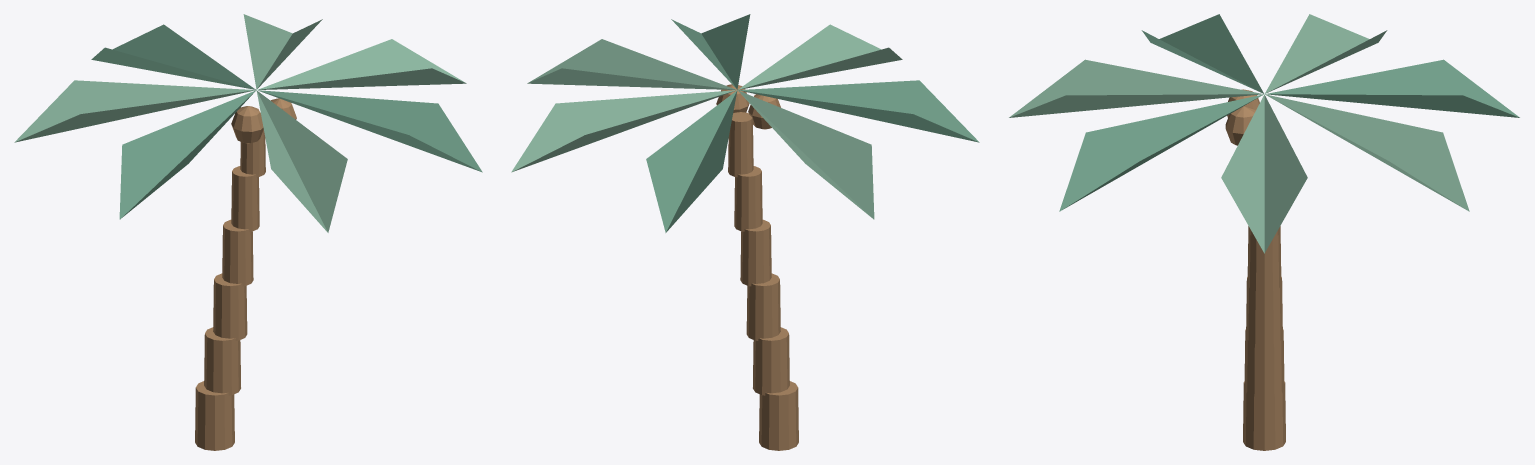
The model's file is palm.glb.
3 views of the same model, side by side, from view 1: azimuth 30°, elevation 25°; view 2: azimuth 150°, elevation 25°; view 3: azimuth 270°, elevation 25° (orthographic). The views are drawn at different scales.
Parts seen in each view (by area): view 1: palm_frond (×7), trunk_segment (×6), coconut; view 2: palm_frond (×7), trunk_segment (×6); view 3: palm_frond (×7), trunk_segment (×4), coconut.
Boxes of the visible parts, box(x1,y1,x2,y2) form: palm_frond (×7): box(14, 14, 482, 232); trunk_segment (×6): box(195, 113, 265, 450); coconut: box(231, 106, 263, 143); palm_frond (×7): box(511, 14, 979, 232); trunk_segment (×6): box(728, 112, 798, 450); palm_frond (×7): box(1009, 14, 1519, 253); trunk_segment (×4): box(1243, 226, 1285, 450); coconut: box(1225, 106, 1255, 145).
Bounding box in the file's own units: 2.89 × 2.36 × 2.96.
